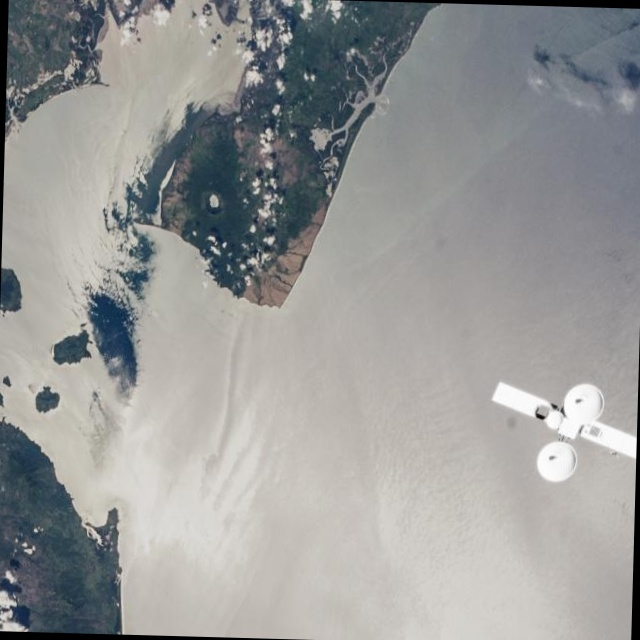satellite: (475, 373, 639, 500)
